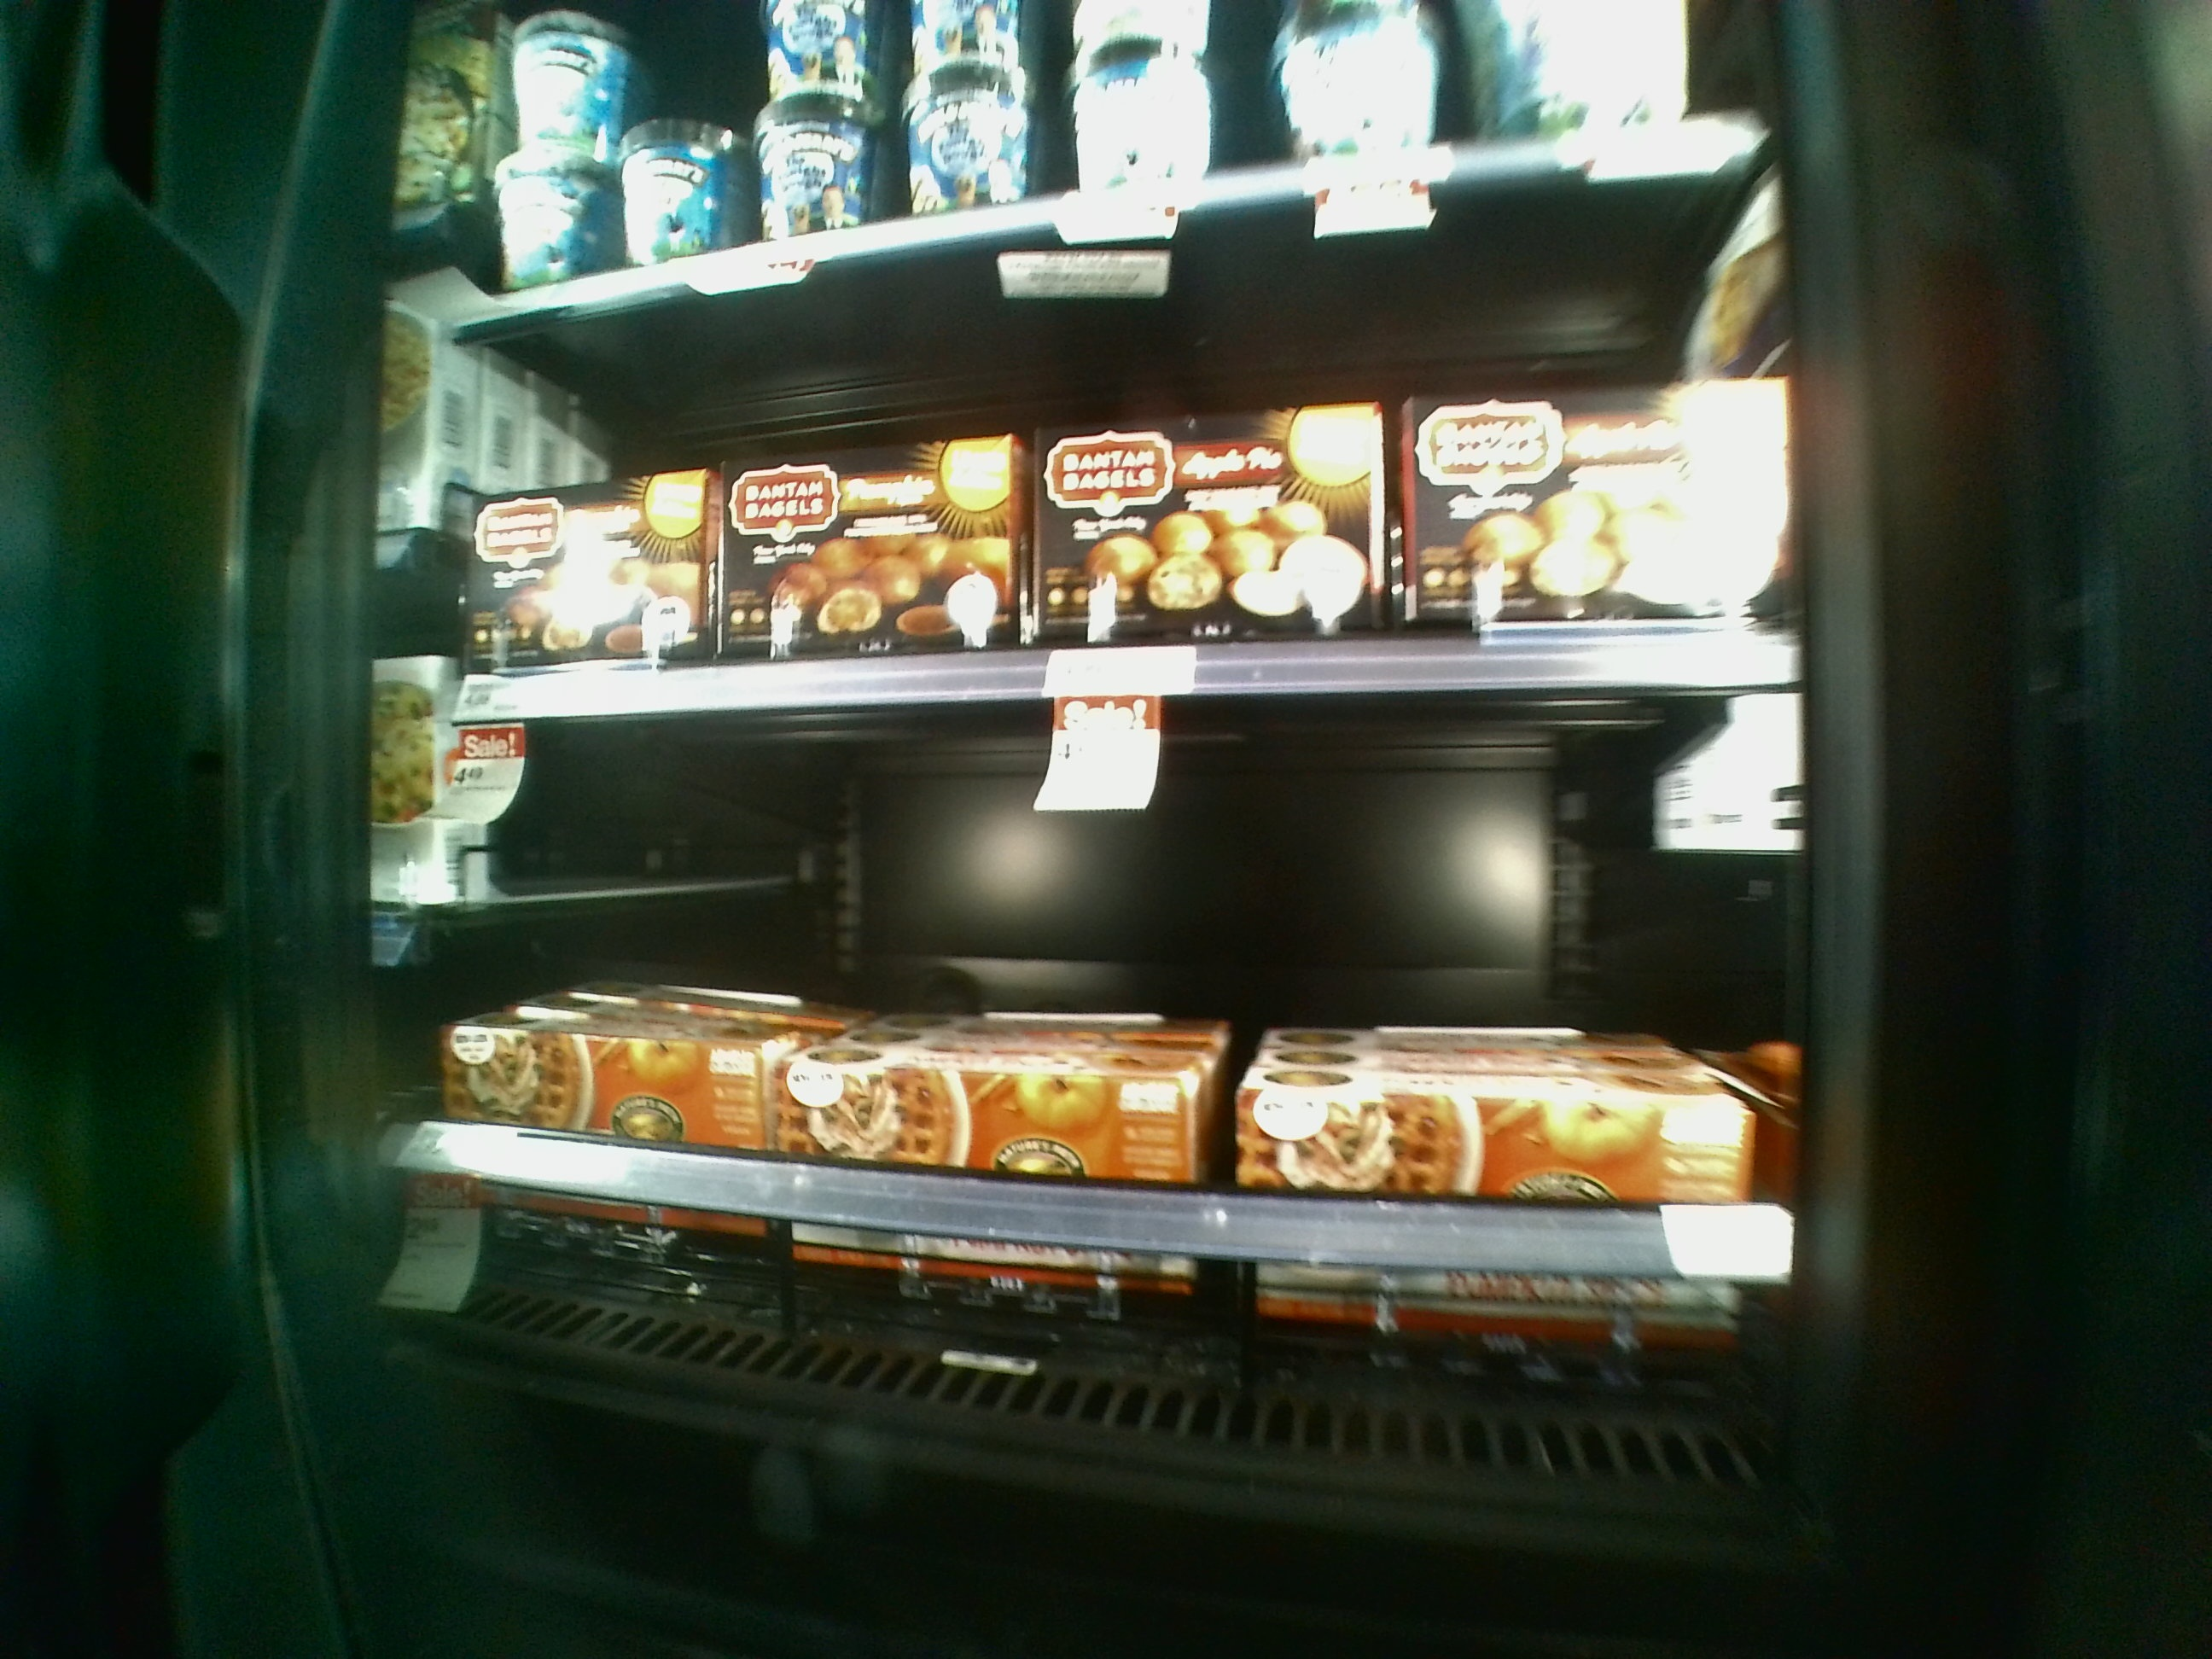shelf: (423, 655, 1787, 1476), (420, 239, 1764, 664)
